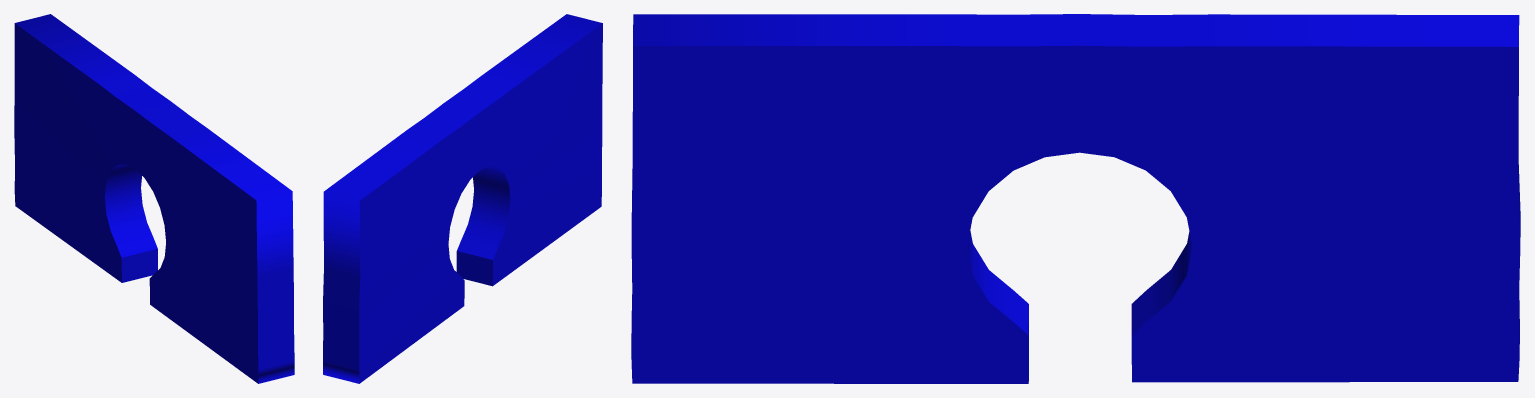
Rendered from blue circle wall.fbx.
3 views of the same model, side by side, from view 1: azimuth 30°, elevation 25°; view 2: azimuth 150°, elevation 25°; view 3: azimuth 270°, elevation 25° (orthographic). The views are drawn at different scales.
Visible parts, largest first — view 1: pPipe1; view 2: pPipe1; view 3: pPipe1.
Part boxes in pixels (x1,y1,x2,y2): pPipe1: [14, 14, 294, 383]; pPipe1: [323, 14, 602, 383]; pPipe1: [631, 14, 1520, 383].
Bounding box in the file's own units: 0.1843 × 0.8523 × 2.04.
